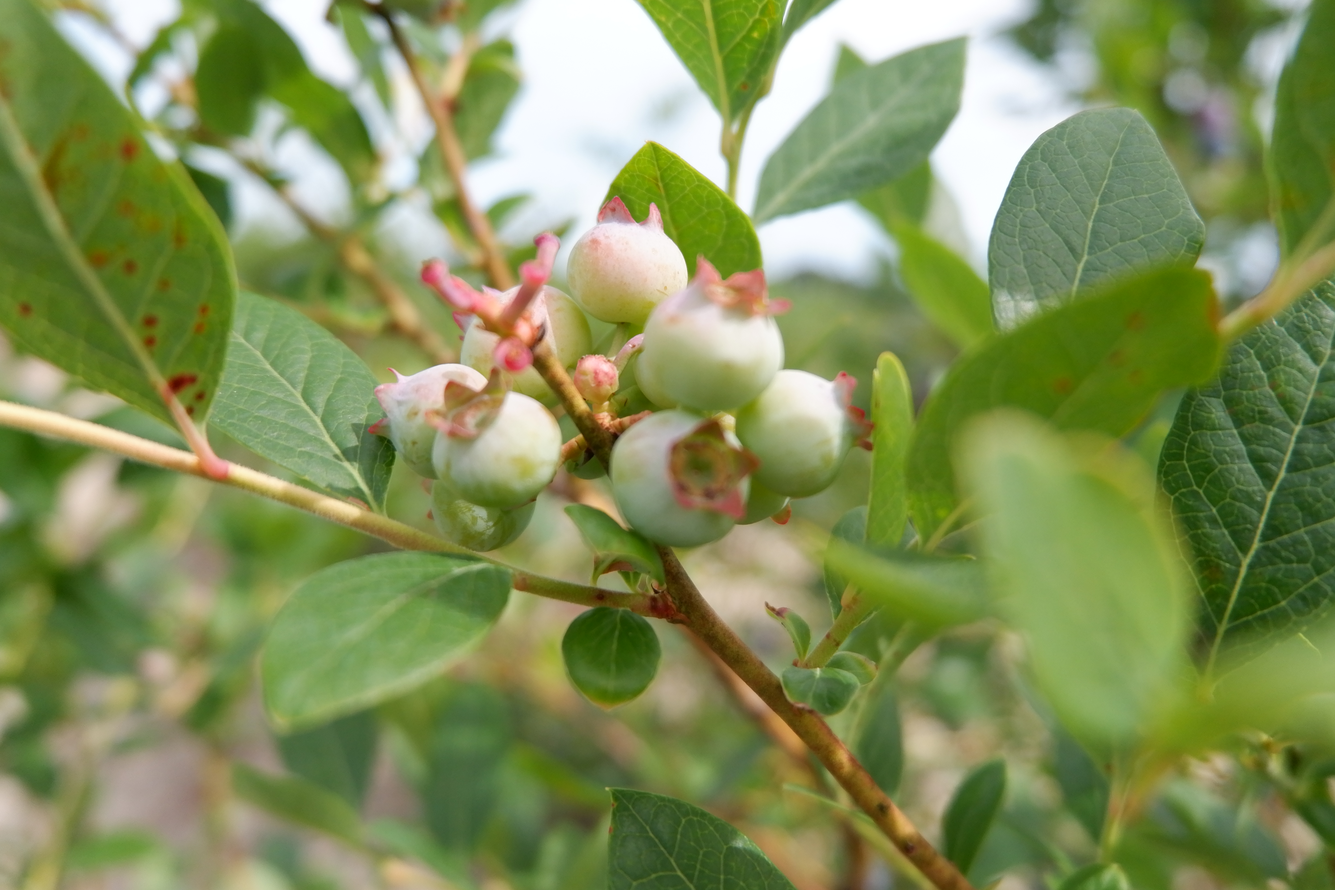Immature: (642, 267, 781, 410), (615, 413, 755, 543), (461, 283, 587, 409), (739, 372, 869, 494), (434, 389, 560, 509), (565, 198, 684, 322), (370, 367, 482, 473), (425, 482, 535, 546), (744, 476, 787, 522)
